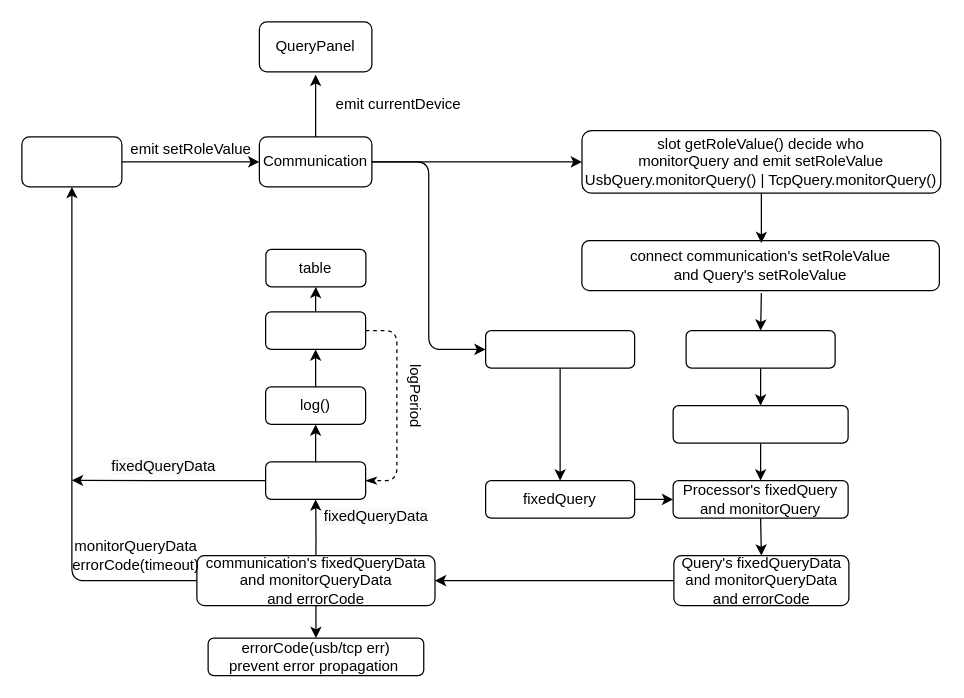
Some shapes in this 964 by 698 pixel diagram are drawn without their labels. Each missing label, with the centre of its shape:
"Monitor" goes at point 71,161.
"Processor's updateRoleValue" goes at point 760,423.
"Query" goes at point 760,348.
"record" goes at point 315,480.
"settings" goes at point 315,330.
"timer" goes at point 559,348.
